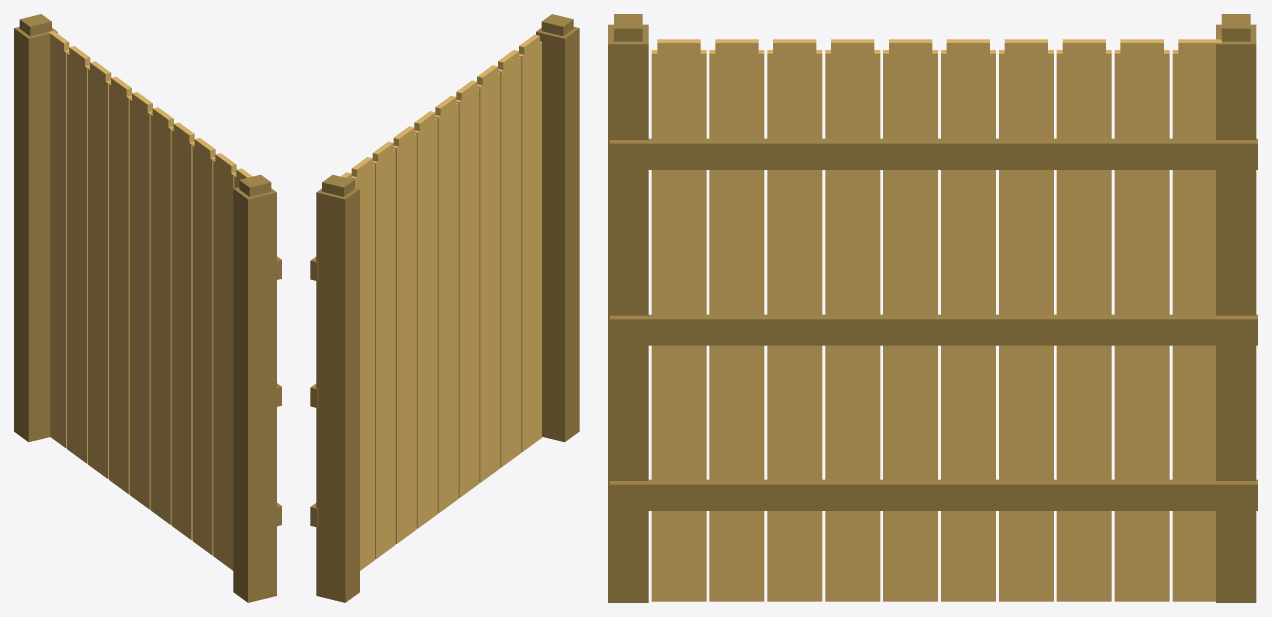
Rendered from fenceHigh.gltf.
3 views of the same model, side by side, from view 1: azimuth 30°, elevation 25°; view 2: azimuth 150°, elevation 25°; view 3: azimuth 270°, elevation 25° (orthographic). The views are drawn at different scales.
Parts seen in each view (by area): view 1: ee32d28c-f4ee-b187-1c8a-b80c1fa8f7df, 42c3c76e-fbcd-3972-049b-9053e5cadfc9, 9b646df6-cc55-6d95-56b8-8e6ca25fdce5, eba2790b-7676-114e-ad59-a96f20aeb7a7, 4ddd71dd-8c9c-ee08-a568-01c5aa052066, 2ba439f3-f279-ba08-5f1d-6f82edb89263, 7d218406-f281-1471-9eb5-ee9b94fe0f75, a10e993b-403f-0f9b-53c1-97488be2fcc2, 3965f666-19aa-4fd5-3300-1161658aa35a, 484f1afe-3312-198a-47a1-08c23b7d1f26, 0b7c1125-0471-3822-af36-f0ce34688555, c34fd28f-dffc-1d09-3d6b-a266071ce8fc (+9 smaller); view 2: 42c3c76e-fbcd-3972-049b-9053e5cadfc9, ee32d28c-f4ee-b187-1c8a-b80c1fa8f7df, 9b646df6-cc55-6d95-56b8-8e6ca25fdce5, 2ba439f3-f279-ba08-5f1d-6f82edb89263, 0b7c1125-0471-3822-af36-f0ce34688555, 4ddd71dd-8c9c-ee08-a568-01c5aa052066, a10e993b-403f-0f9b-53c1-97488be2fcc2, 0fe7bcdb-63a7-1403-4e33-5eeee13c94c3, 353f7d53-be9c-7b7c-2029-2d69bfea5bc4, eba2790b-7676-114e-ad59-a96f20aeb7a7, 7d218406-f281-1471-9eb5-ee9b94fe0f75, ce3831d6-4707-3a00-3d78-88ba2ac0f709 (+10 smaller); view 3: eba2790b-7676-114e-ad59-a96f20aeb7a7, 4ddd71dd-8c9c-ee08-a568-01c5aa052066, 2ba439f3-f279-ba08-5f1d-6f82edb89263, 0b7c1125-0471-3822-af36-f0ce34688555, 0fe7bcdb-63a7-1403-4e33-5eeee13c94c3, 7d218406-f281-1471-9eb5-ee9b94fe0f75, 353f7d53-be9c-7b7c-2029-2d69bfea5bc4, a10e993b-403f-0f9b-53c1-97488be2fcc2, 9b646df6-cc55-6d95-56b8-8e6ca25fdce5, 97e10ba1-2790-4d05-d610-a636239b1157, 86675dd4-9a8e-5576-a62b-0baa21f48bbe, 8bd984cd-3954-8545-cced-258e37b90b83 (+14 smaller).
Part boxes in pixels (box(x1,y1,x2,y2)): ee32d28c-f4ee-b187-1c8a-b80c1fa8f7df: box(233, 187, 276, 602); 42c3c76e-fbcd-3972-049b-9053e5cadfc9: box(14, 27, 57, 442); 9b646df6-cc55-6d95-56b8-8e6ca25fdce5: box(129, 99, 152, 509); eba2790b-7676-114e-ad59-a96f20aeb7a7: box(171, 129, 194, 540); 4ddd71dd-8c9c-ee08-a568-01c5aa052066: box(88, 68, 110, 478); 2ba439f3-f279-ba08-5f1d-6f82edb89263: box(192, 144, 215, 555); 7d218406-f281-1471-9eb5-ee9b94fe0f75: box(67, 53, 89, 463); a10e993b-403f-0f9b-53c1-97488be2fcc2: box(109, 83, 131, 494); 3965f666-19aa-4fd5-3300-1161658aa35a: box(152, 107, 173, 513); 484f1afe-3312-198a-47a1-08c23b7d1f26: box(215, 153, 236, 558); 0b7c1125-0471-3822-af36-f0ce34688555: box(213, 160, 236, 570); c34fd28f-dffc-1d09-3d6b-a266071ce8fc: box(48, 30, 69, 437); 42c3c76e-fbcd-3972-049b-9053e5cadfc9: box(316, 187, 359, 602); ee32d28c-f4ee-b187-1c8a-b80c1fa8f7df: box(536, 27, 579, 442); 9b646df6-cc55-6d95-56b8-8e6ca25fdce5: box(414, 118, 437, 528); 2ba439f3-f279-ba08-5f1d-6f82edb89263: box(477, 72, 500, 482); 0b7c1125-0471-3822-af36-f0ce34688555: box(498, 56, 521, 467); 4ddd71dd-8c9c-ee08-a568-01c5aa052066: box(372, 148, 395, 559); a10e993b-403f-0f9b-53c1-97488be2fcc2: box(393, 133, 416, 543); 0fe7bcdb-63a7-1403-4e33-5eeee13c94c3: box(519, 41, 541, 451); 353f7d53-be9c-7b7c-2029-2d69bfea5bc4: box(435, 102, 458, 513); eba2790b-7676-114e-ad59-a96f20aeb7a7: box(456, 87, 479, 497); 7d218406-f281-1471-9eb5-ee9b94fe0f75: box(352, 164, 374, 570); ce3831d6-4707-3a00-3d78-88ba2ac0f709: box(456, 80, 477, 485); eba2790b-7676-114e-ad59-a96f20aeb7a7: box(825, 50, 880, 601); 4ddd71dd-8c9c-ee08-a568-01c5aa052066: box(1056, 50, 1111, 601); 2ba439f3-f279-ba08-5f1d-6f82edb89263: box(767, 50, 822, 601); 0b7c1125-0471-3822-af36-f0ce34688555: box(709, 50, 764, 601); 0fe7bcdb-63a7-1403-4e33-5eeee13c94c3: box(651, 50, 706, 601); 7d218406-f281-1471-9eb5-ee9b94fe0f75: box(1114, 50, 1169, 601); 353f7d53-be9c-7b7c-2029-2d69bfea5bc4: box(883, 50, 937, 601); a10e993b-403f-0f9b-53c1-97488be2fcc2: box(999, 50, 1053, 601); 9b646df6-cc55-6d95-56b8-8e6ca25fdce5: box(941, 50, 995, 601); 97e10ba1-2790-4d05-d610-a636239b1157: box(609, 314, 1257, 345); 86675dd4-9a8e-5576-a62b-0baa21f48bbe: box(609, 138, 1257, 169); 8bd984cd-3954-8545-cced-258e37b90b83: box(609, 479, 1257, 510).
Size of the model in its own units: 0.1188 by 1.36 by 1.4.
Materials: 2 (2 with a texture image).
